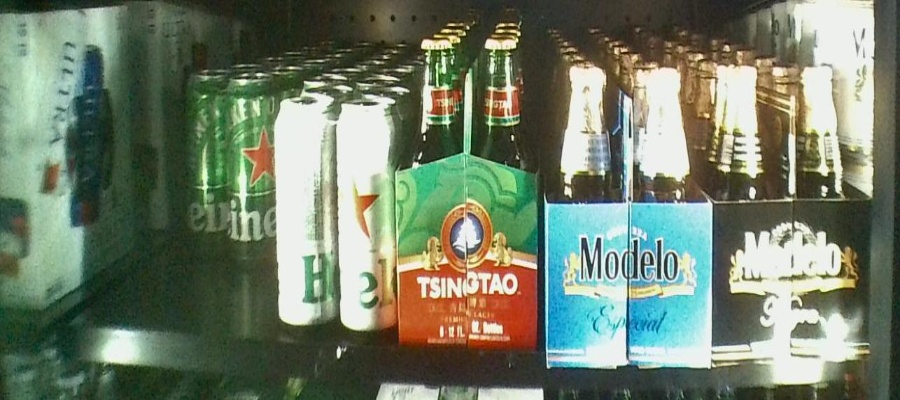bottle: (541, 66, 712, 364), (712, 69, 870, 362), (394, 35, 541, 348), (273, 97, 391, 334), (184, 70, 274, 262)
